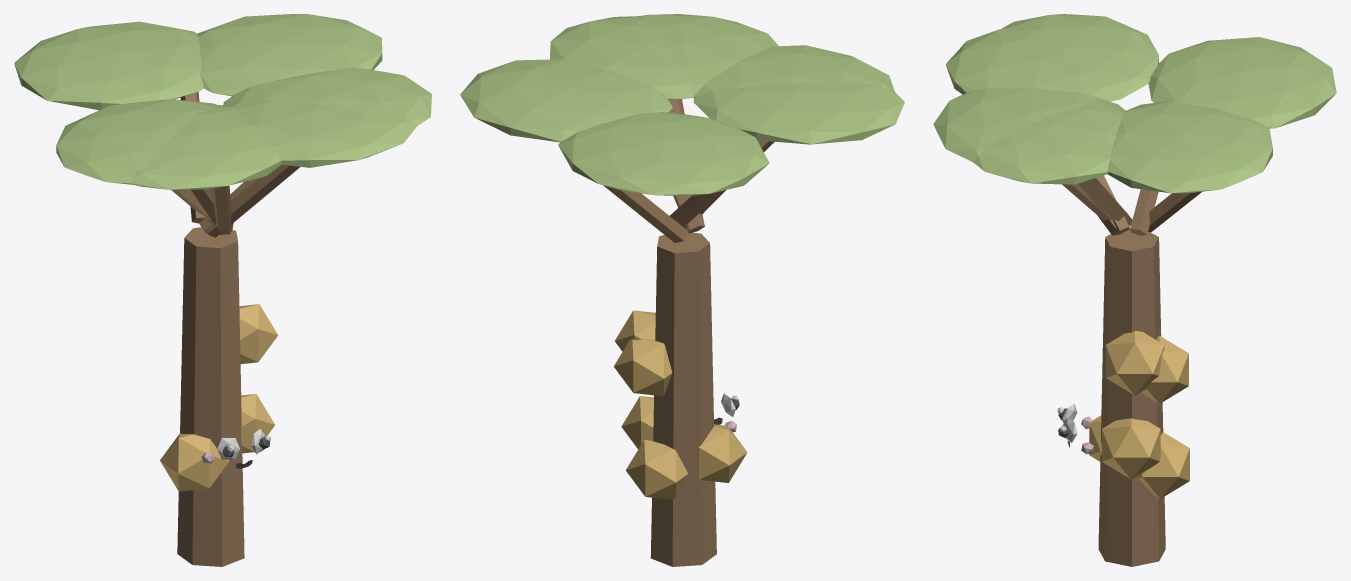
Rendered from carica-papaya.glb.
3 views of the same model, side by side, from view 1: azimuth 30°, elevation 25°; view 2: azimuth 150°, elevation 25°; view 3: azimuth 270°, elevation 25° (orthographic).
Parts seen in each view (by area): view 1: trunk, blade3, blade2, blade1, blade4, blade0, blade5, fruit0, fruit4, petiole4, fruit3, petiole1; view 2: trunk, blade3, blade2, blade0, blade5, blade1, blade4, fruit1, fruit2, fruit0, petiole3, fruit3 (+2 smaller); view 3: trunk, blade2, blade3, blade5, blade0, blade4, blade1, fruit3, fruit4, fruit1, fruit2, petiole0 (+2 smaller).
Part boxes in pixels (<box>): trunk: <box>177,227,244,566</box>; blade3: <box>14,21,203,110</box>; blade2: <box>197,14,382,96</box>; blade1: <box>223,99,416,167</box>; blade4: <box>130,105,281,189</box>; blade0: <box>56,99,218,184</box>; blade5: <box>223,67,431,125</box>; fruit0: <box>160,433,229,491</box>; fruit4: <box>239,304,278,363</box>; petiole4: <box>206,164,299,237</box>; fruit3: <box>241,394,274,453</box>; petiole1: <box>211,186,232,234</box>; trunk: <box>650,232,716,566</box>; blade3: <box>558,112,769,196</box>; blade2: <box>460,59,672,142</box>; blade0: <box>693,82,904,144</box>; blade5: <box>549,16,693,99</box>; blade1: <box>641,14,778,97</box>; blade4: <box>693,45,895,99</box>; fruit1: <box>625,439,688,499</box>; fruit2: <box>614,339,672,396</box>; fruit0: <box>698,424,747,482</box>; petiole3: <box>603,185,687,242</box>; fruit3: <box>621,396,653,449</box>; trunk: <box>1098,229,1165,566</box>; blade2: <box>1107,100,1272,193</box>; blade3: <box>1148,37,1336,128</box>; blade5: <box>973,100,1125,184</box>; blade0: <box>1002,14,1158,100</box>; blade4: <box>945,28,1114,101</box>; blade1: <box>933,88,1110,161</box>; fruit3: <box>1102,418,1160,479</box>; fruit4: <box>1105,331,1164,395</box>; fruit1: <box>1138,432,1189,498</box>; fruit2: <box>1140,335,1188,403</box>; petiole0: <box>1078,178,1132,226</box>.
Size of the model in its own units: 0.6146 by 0.74 by 0.5846.
